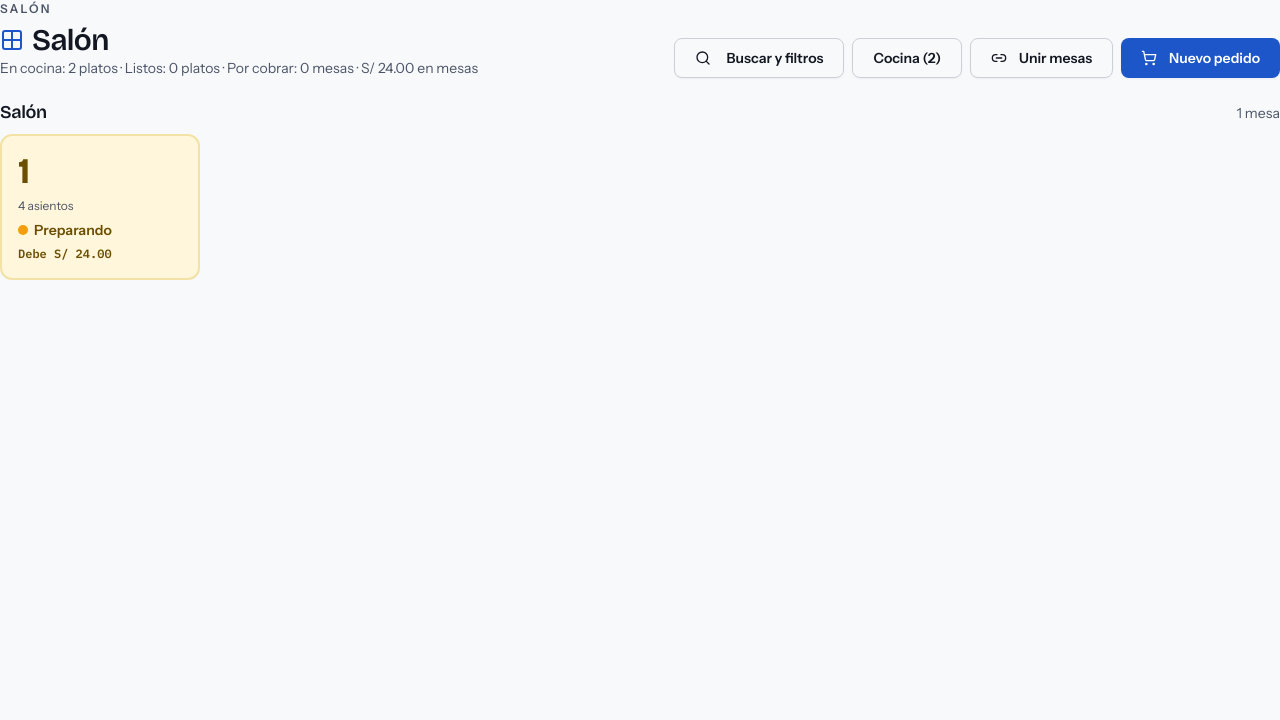
Test: pedido por personas en el salón › el resumen de mesa vive en ⋯ Más, trae el total a la vista y agrupa a todas las personas
The width and height of the screenshot is (1280, 720).
Click the element with test id "mesa-card-1" at (100, 207), box [0, 134, 200, 280]
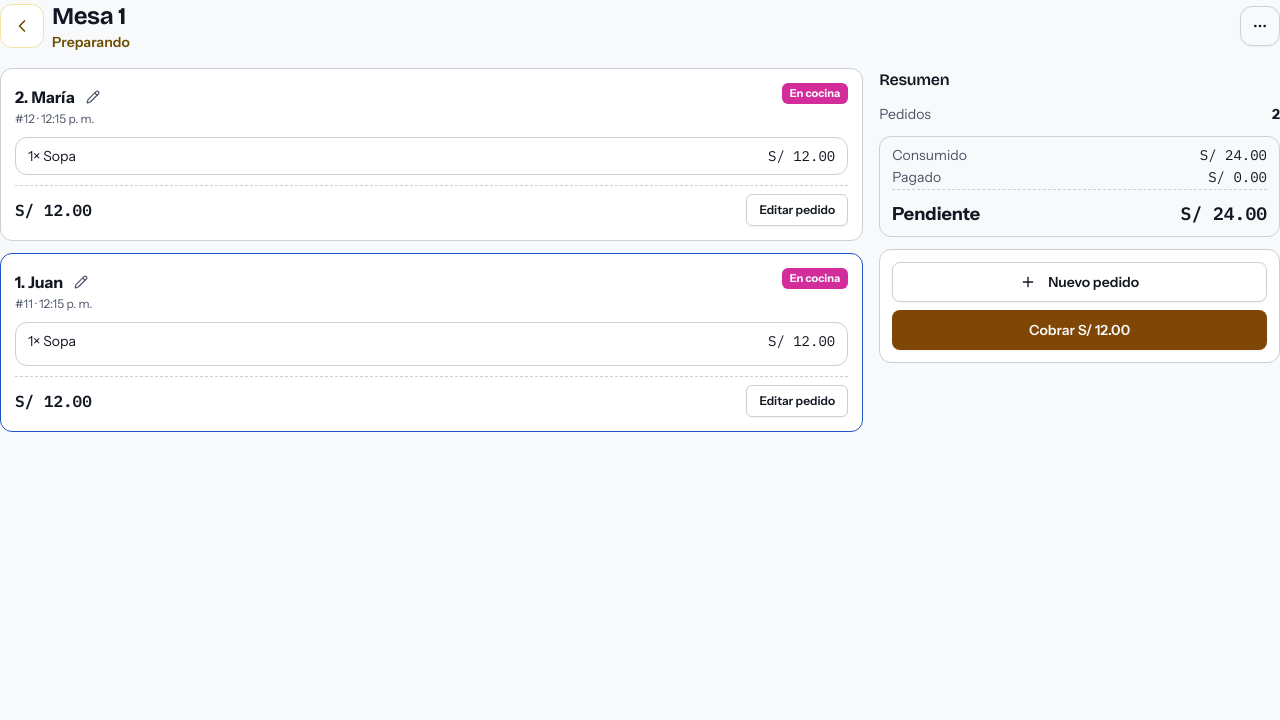
Click the button with test id "mesa-sheet-mas" at (1260, 26), box [1240, 6, 1279, 46]
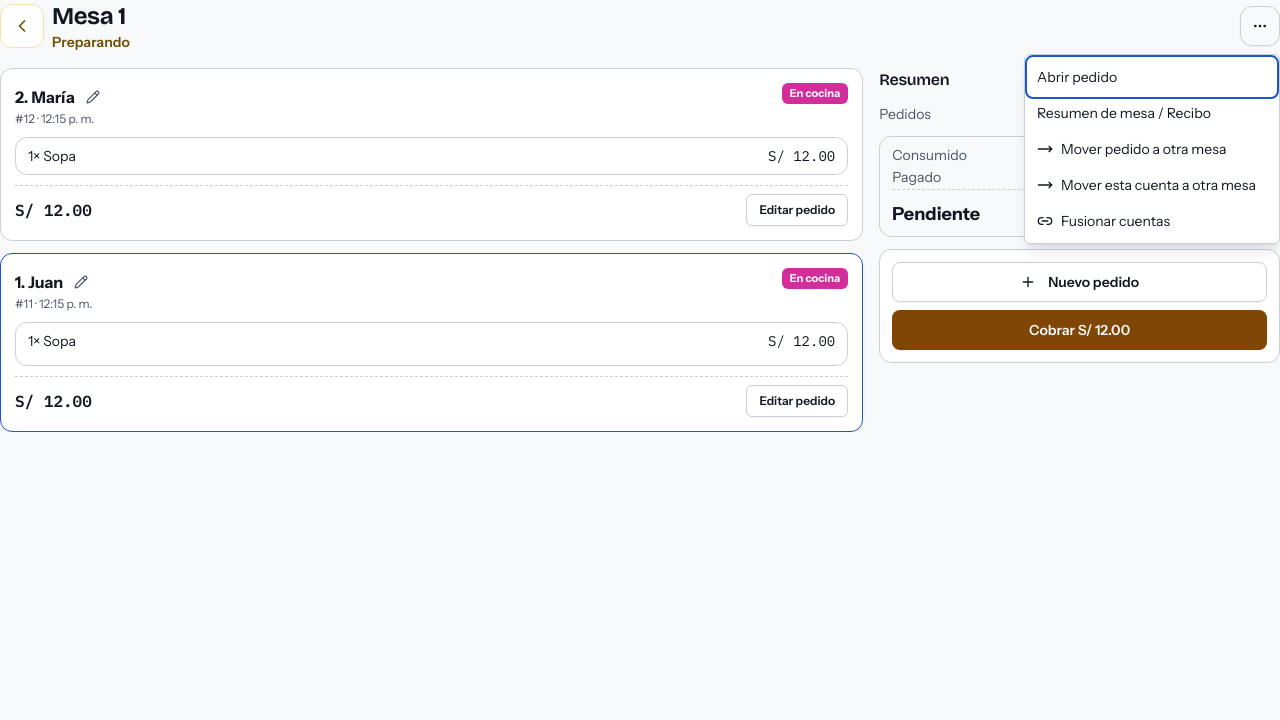
Click the menu item with test id "mesa-sheet-ver-resumen" at (1152, 113), box [1029, 95, 1275, 131]
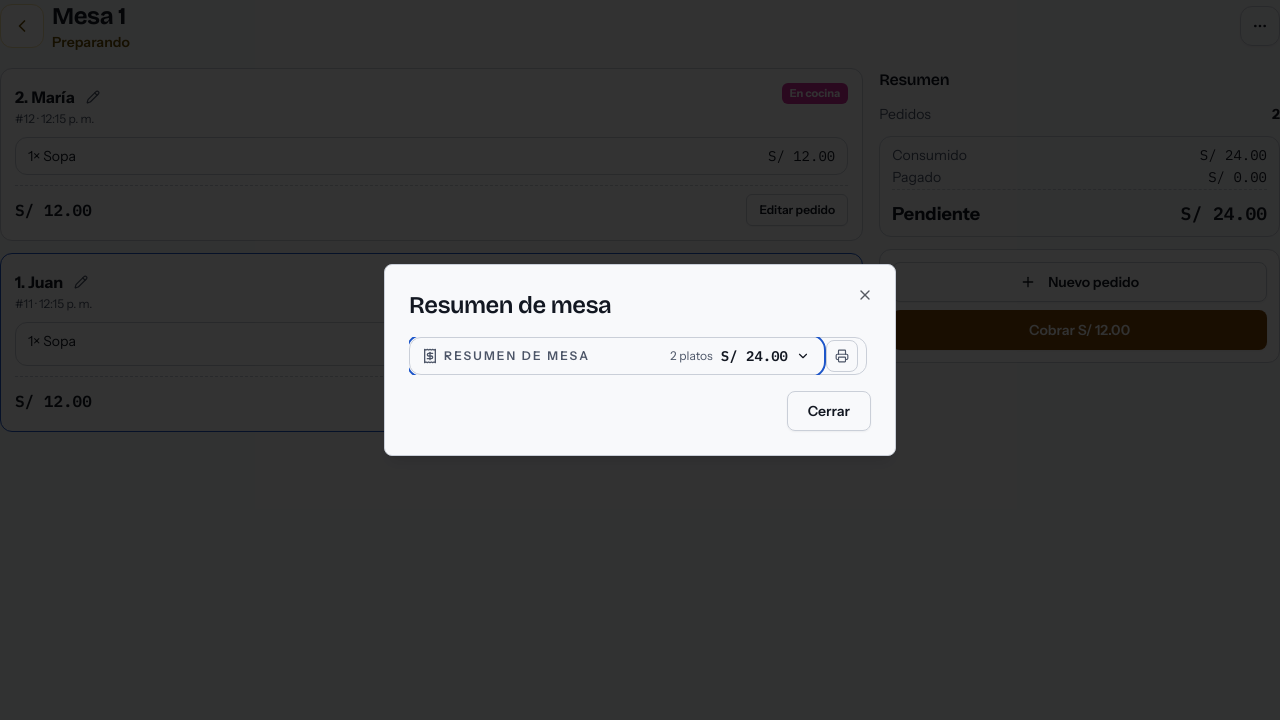
Now the element with test id "mesa-sheet-resumen" is shown, box [409, 337, 867, 375]
Now the element with test id "mesa-sheet-resumen" shows "Resumen de mesa"
Now the element with test id "mesa-sheet-resumen" shows "24.00"
Click the button with test id "mesa-sheet-resumen-toggle" at (517, 356), box [410, 338, 822, 374]
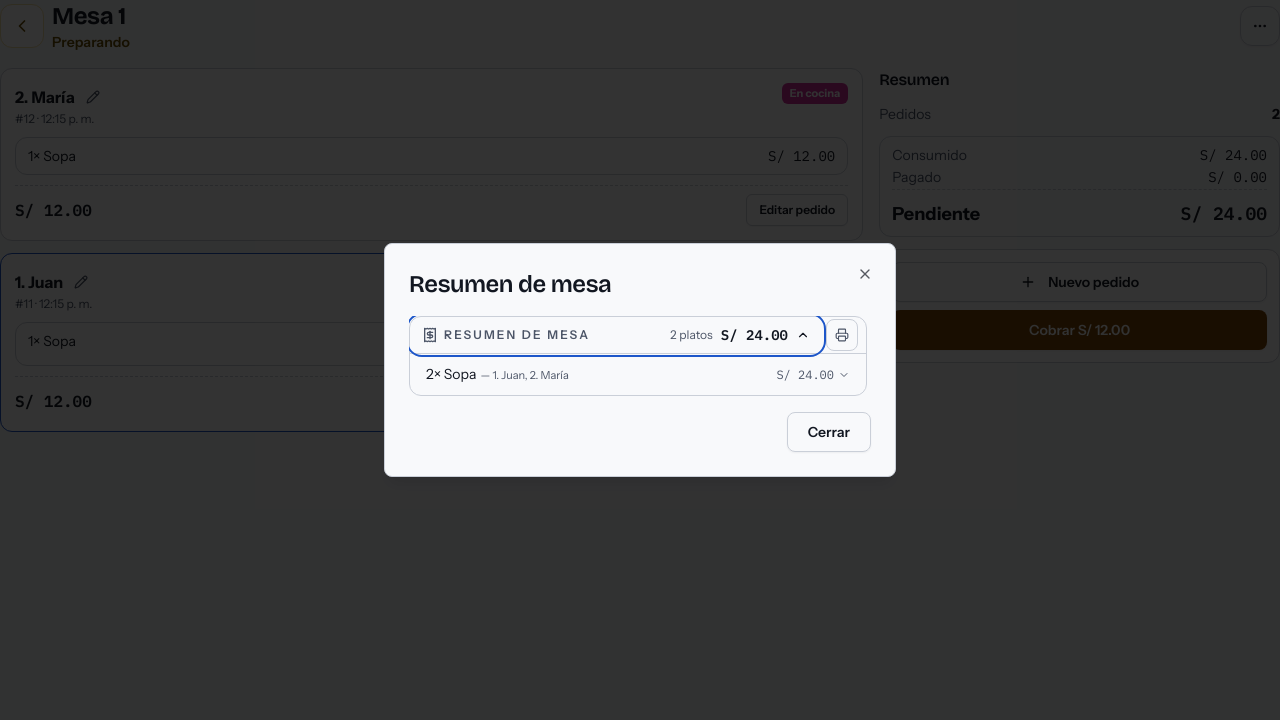
Now the element with test id "mesa-sheet-resumen" shows "2× Sopa", box [422, 362, 854, 387]
Now the element with test id "mesa-sheet-resumen" shows "Juan", box [422, 362, 854, 387]
Now the element with test id "mesa-sheet-resumen" shows "María", box [422, 362, 854, 387]
